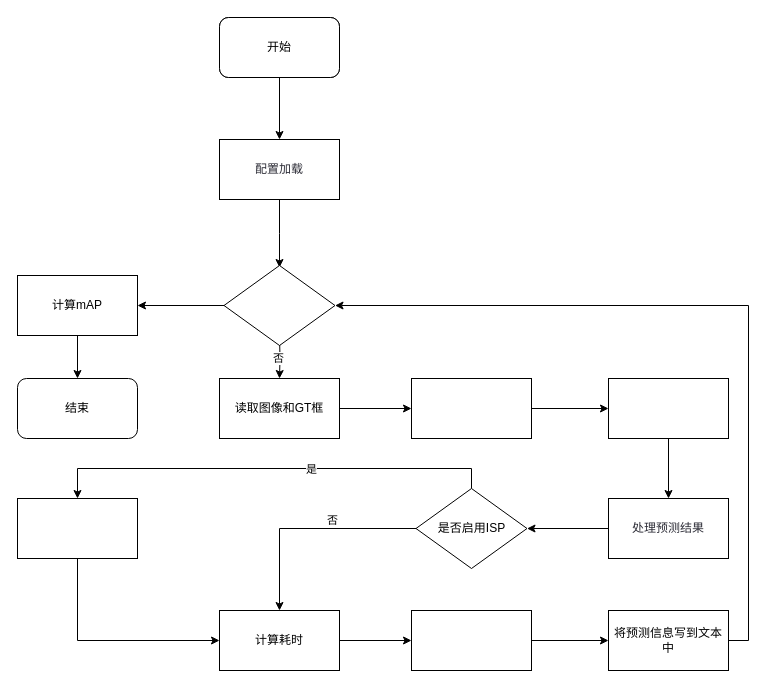
The diagram is 774 pixels wide and 688 high, and some of its shapes have lost their labels. Here are the shapes that lost their labels. From the top down, the centre of each, then its label:
At pixel 279 305: "图像是否处理完".
At pixel 471 408: "接收图像进行预处理".
At pixel 668 408: "使用TensorFlow运行模型， 得到预测边界框， 增强后的图像， 以及 ISP 参数".
At pixel 77 528: "图像剪裁，打印ISP参数".
At pixel 471 640: "保存边界框绘制图像".
